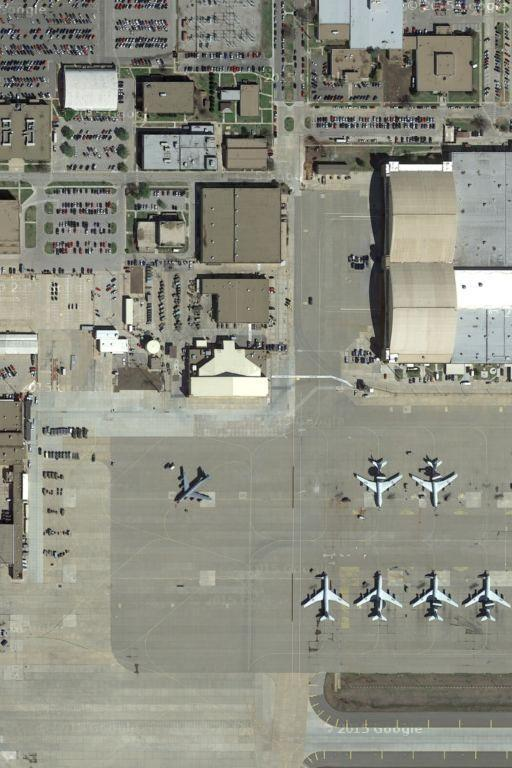E-3: (351, 568, 404, 625), (353, 457, 406, 509), (411, 571, 463, 624), (409, 457, 459, 510), (462, 571, 510, 625)
E-8: (298, 571, 353, 624)
KC-135: (171, 463, 214, 508)
